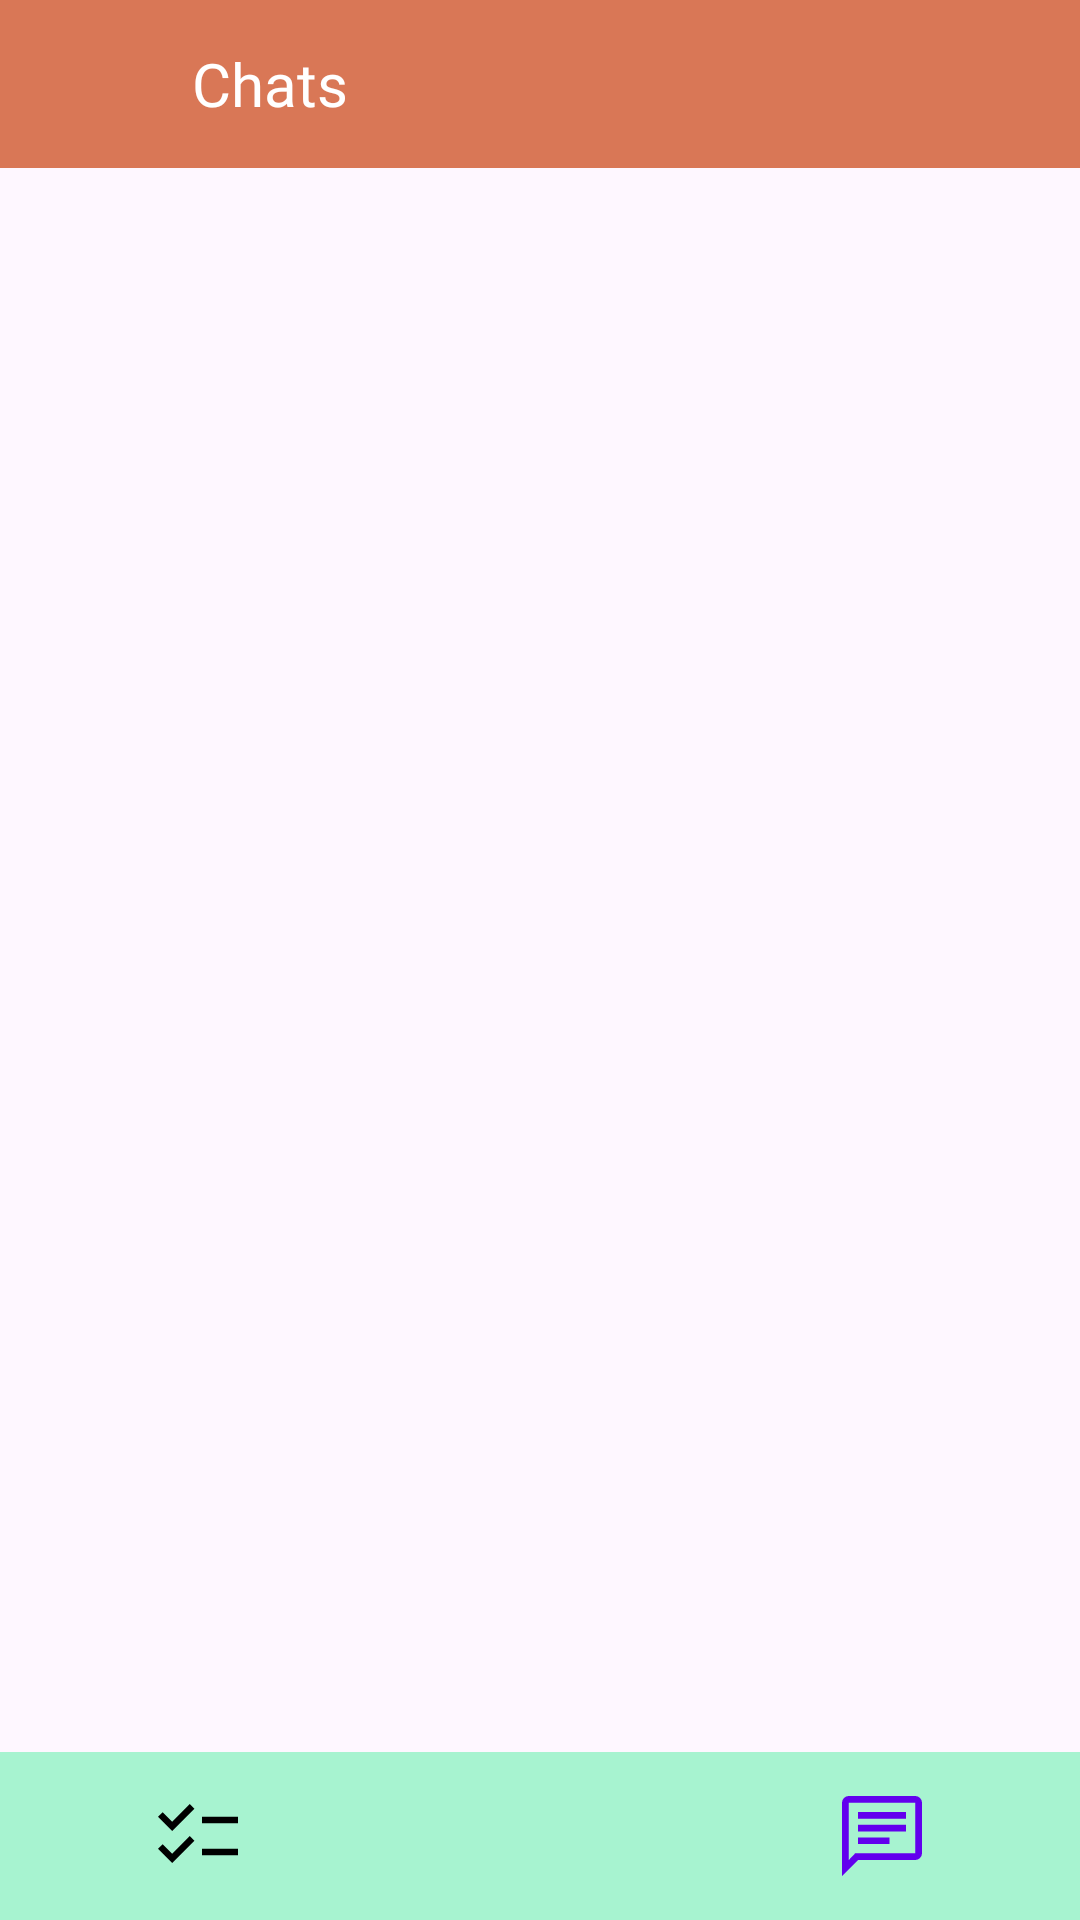

Screen size 1080px x 1920px. Icon name, then its box in pixels as (x1, y1, x2, y2):
mis chats: (842, 1796, 922, 1876)
